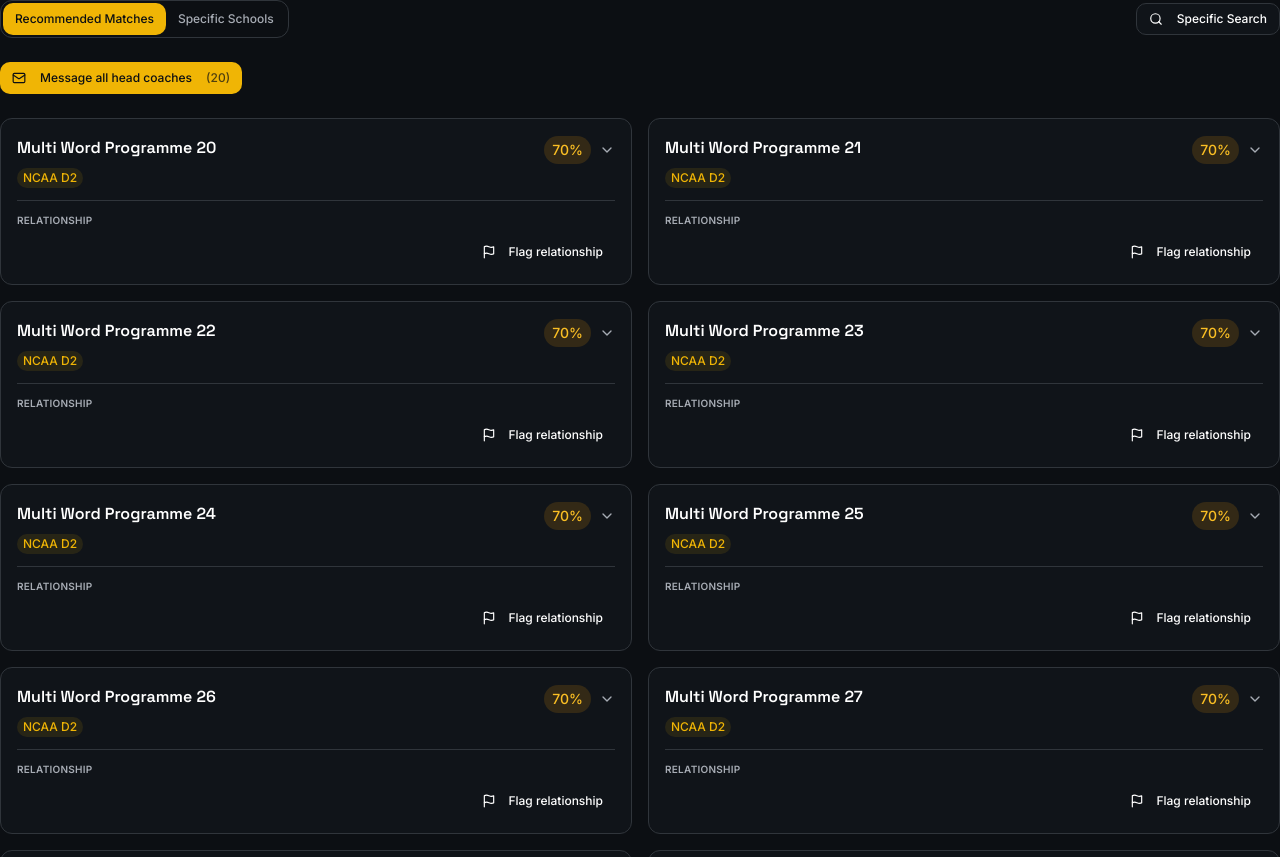
it: a response can never land on the wrong page › ignores the first page’s answer when it arrives after the second
Click the button "Multi Word Programme 20 NCAA D2 70%". click: (117,148)
box: x1=17 y1=136 x2=615 y2=188
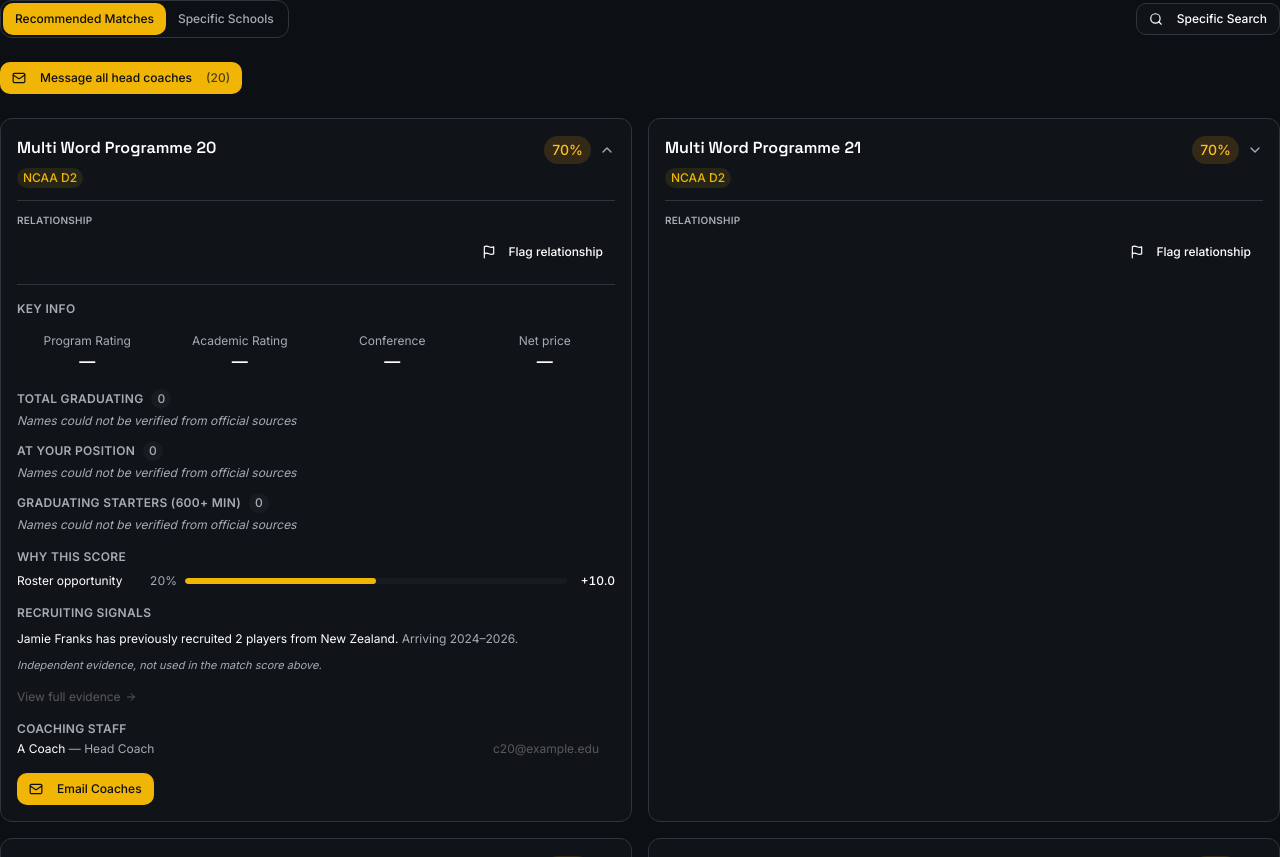
Expected: the text "Jamie Franks has previously recruited" is shown, x1=17 y1=631 x2=398 y2=646
